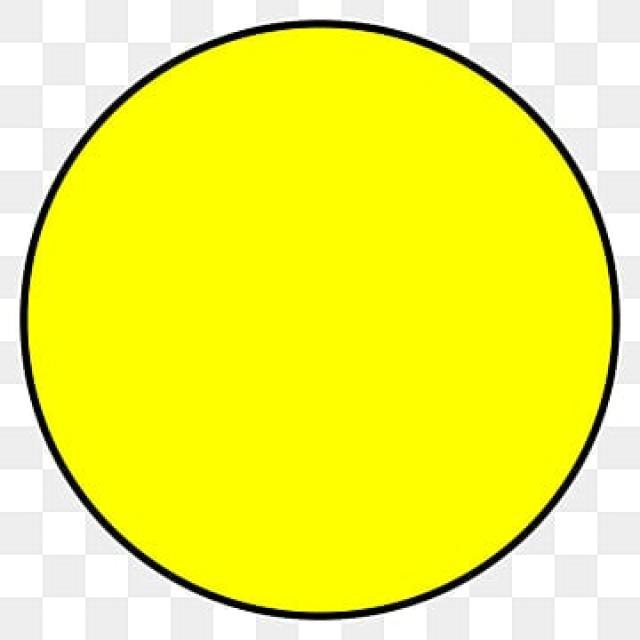Circle: (18, 20, 619, 622)
